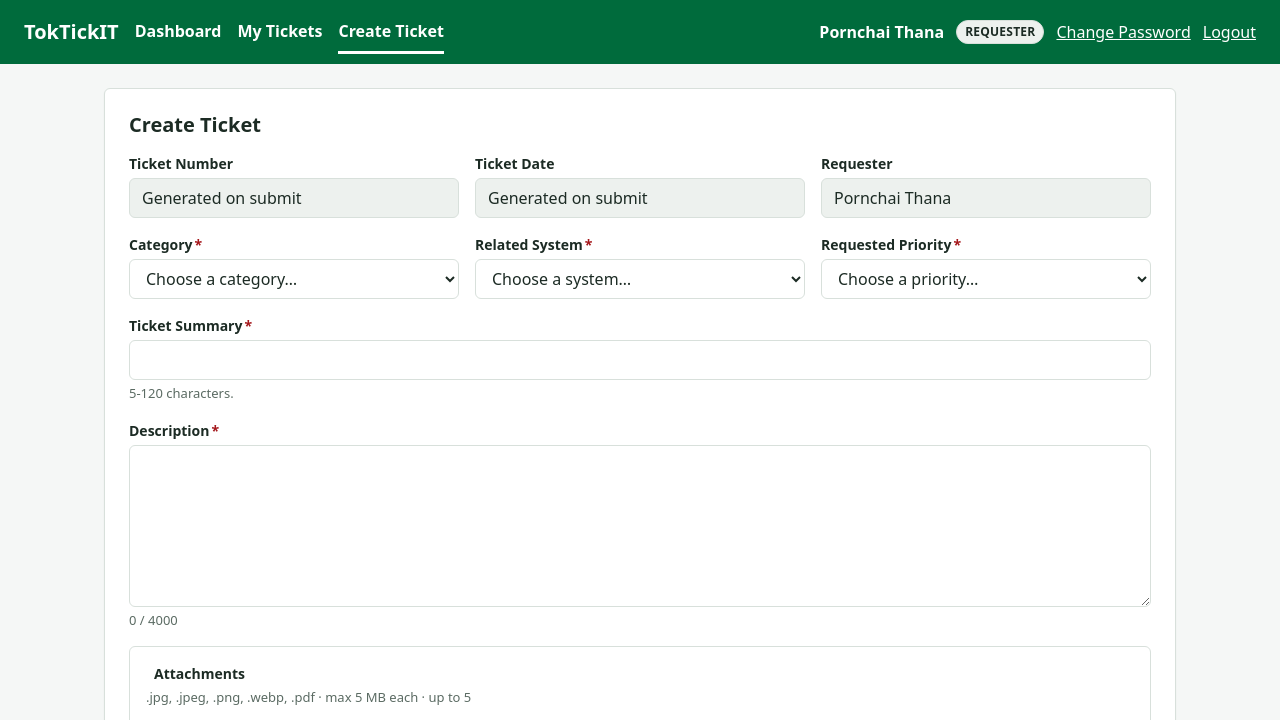
Test: application identity and navigation › navigates from Create Ticket back to My Tickets
This screenshot has width=1280, height=720.
Expected: the field labelled "Ticket Summary*" is shown, [129, 340, 1151, 380]
Step 1. Click the link "My Tickets" → click(280, 30), box [237, 20, 322, 42]
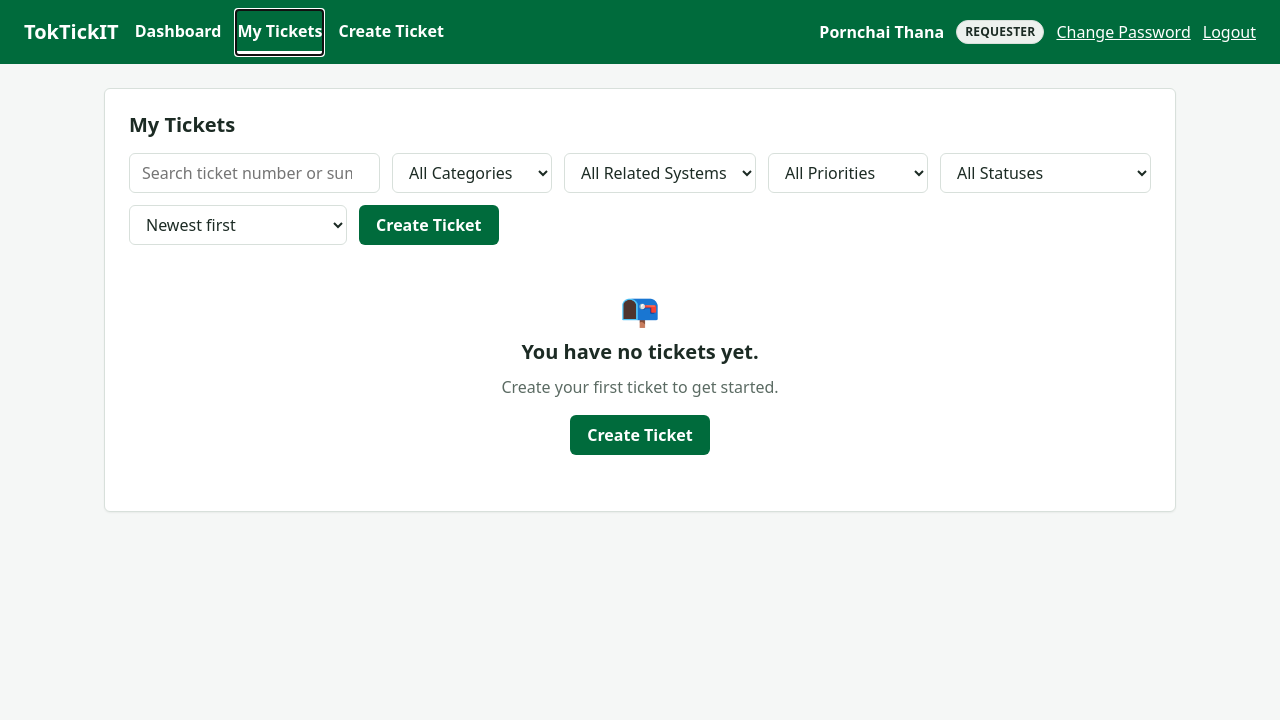
Now the search field named "Search tickets" is shown, box [129, 153, 380, 193]
